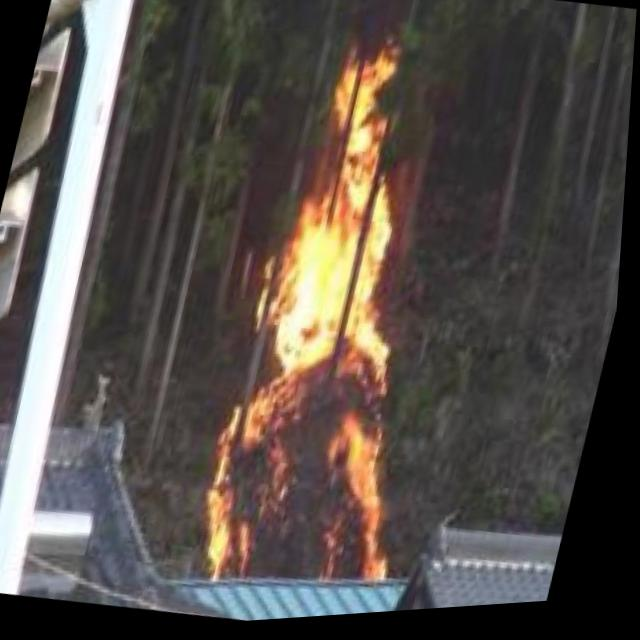Fire: (192, 33, 504, 606)
